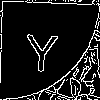Y: (25, 24, 60, 72)
